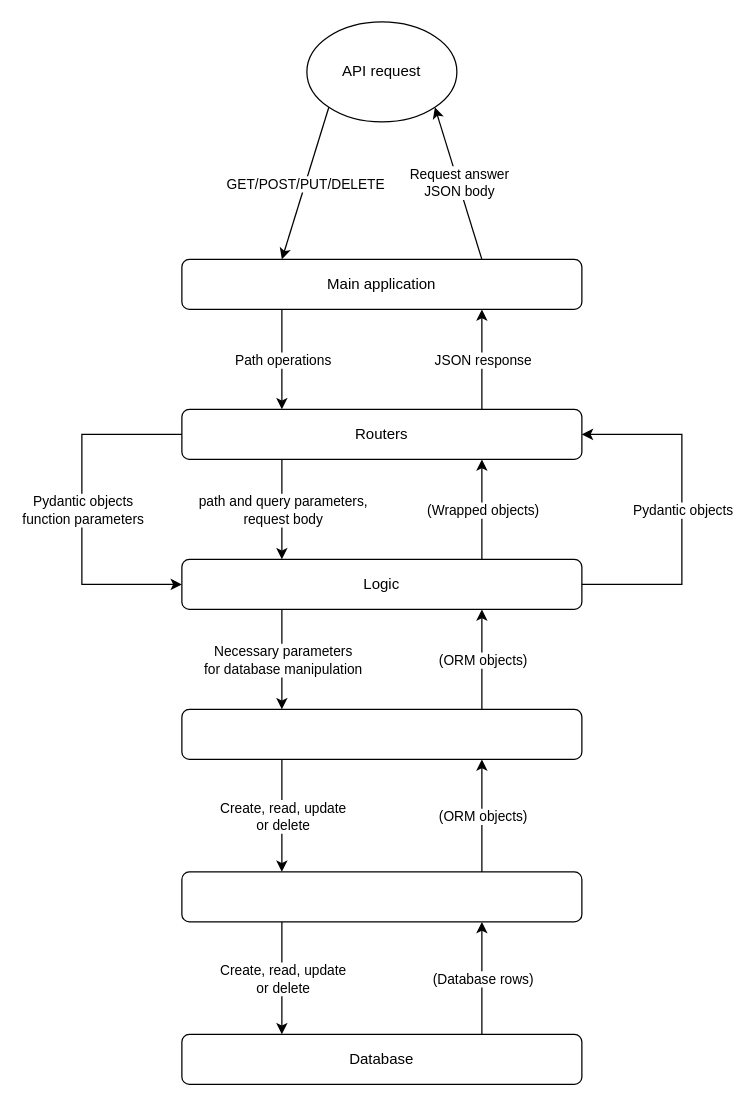
Image size: 754x1106. Some labels were removed from this diagram. Here are the shapes that lost their labels. From the top down, the centre of each, then its label:
(x=381, y=733): Crud
(x=381, y=896): ORM session
